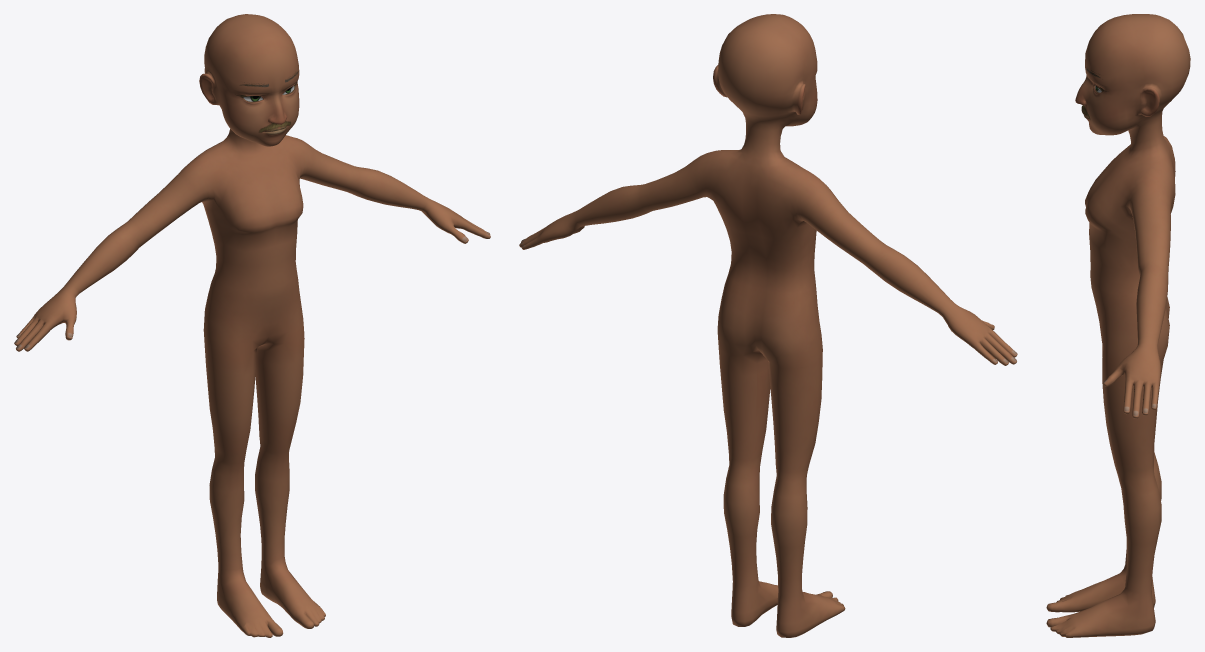
File: frame_0085.glb
The picture shows the model from 3 angles, left to right: view 1: azimuth 30°, elevation 25°; view 2: azimuth 150°, elevation 25°; view 3: azimuth 270°, elevation 25°; orthographic projection. The views are drawn at different scales.
Parts seen in each view (by area): view 1: frame_0085_head_geo; view 2: frame_0085_head_geo; view 3: frame_0085_head_geo.
Boxes of the visible parts, left/top/right/bottom form: frame_0085_head_geo: left=14, top=14, right=490, bottom=637; frame_0085_head_geo: left=519, top=14, right=1017, bottom=637; frame_0085_head_geo: left=1046, top=14, right=1190, bottom=637.
Bounding box in the file's own units: 1.28 × 1.5 × 0.3253.
Materials: 3 (3 with a texture image).
